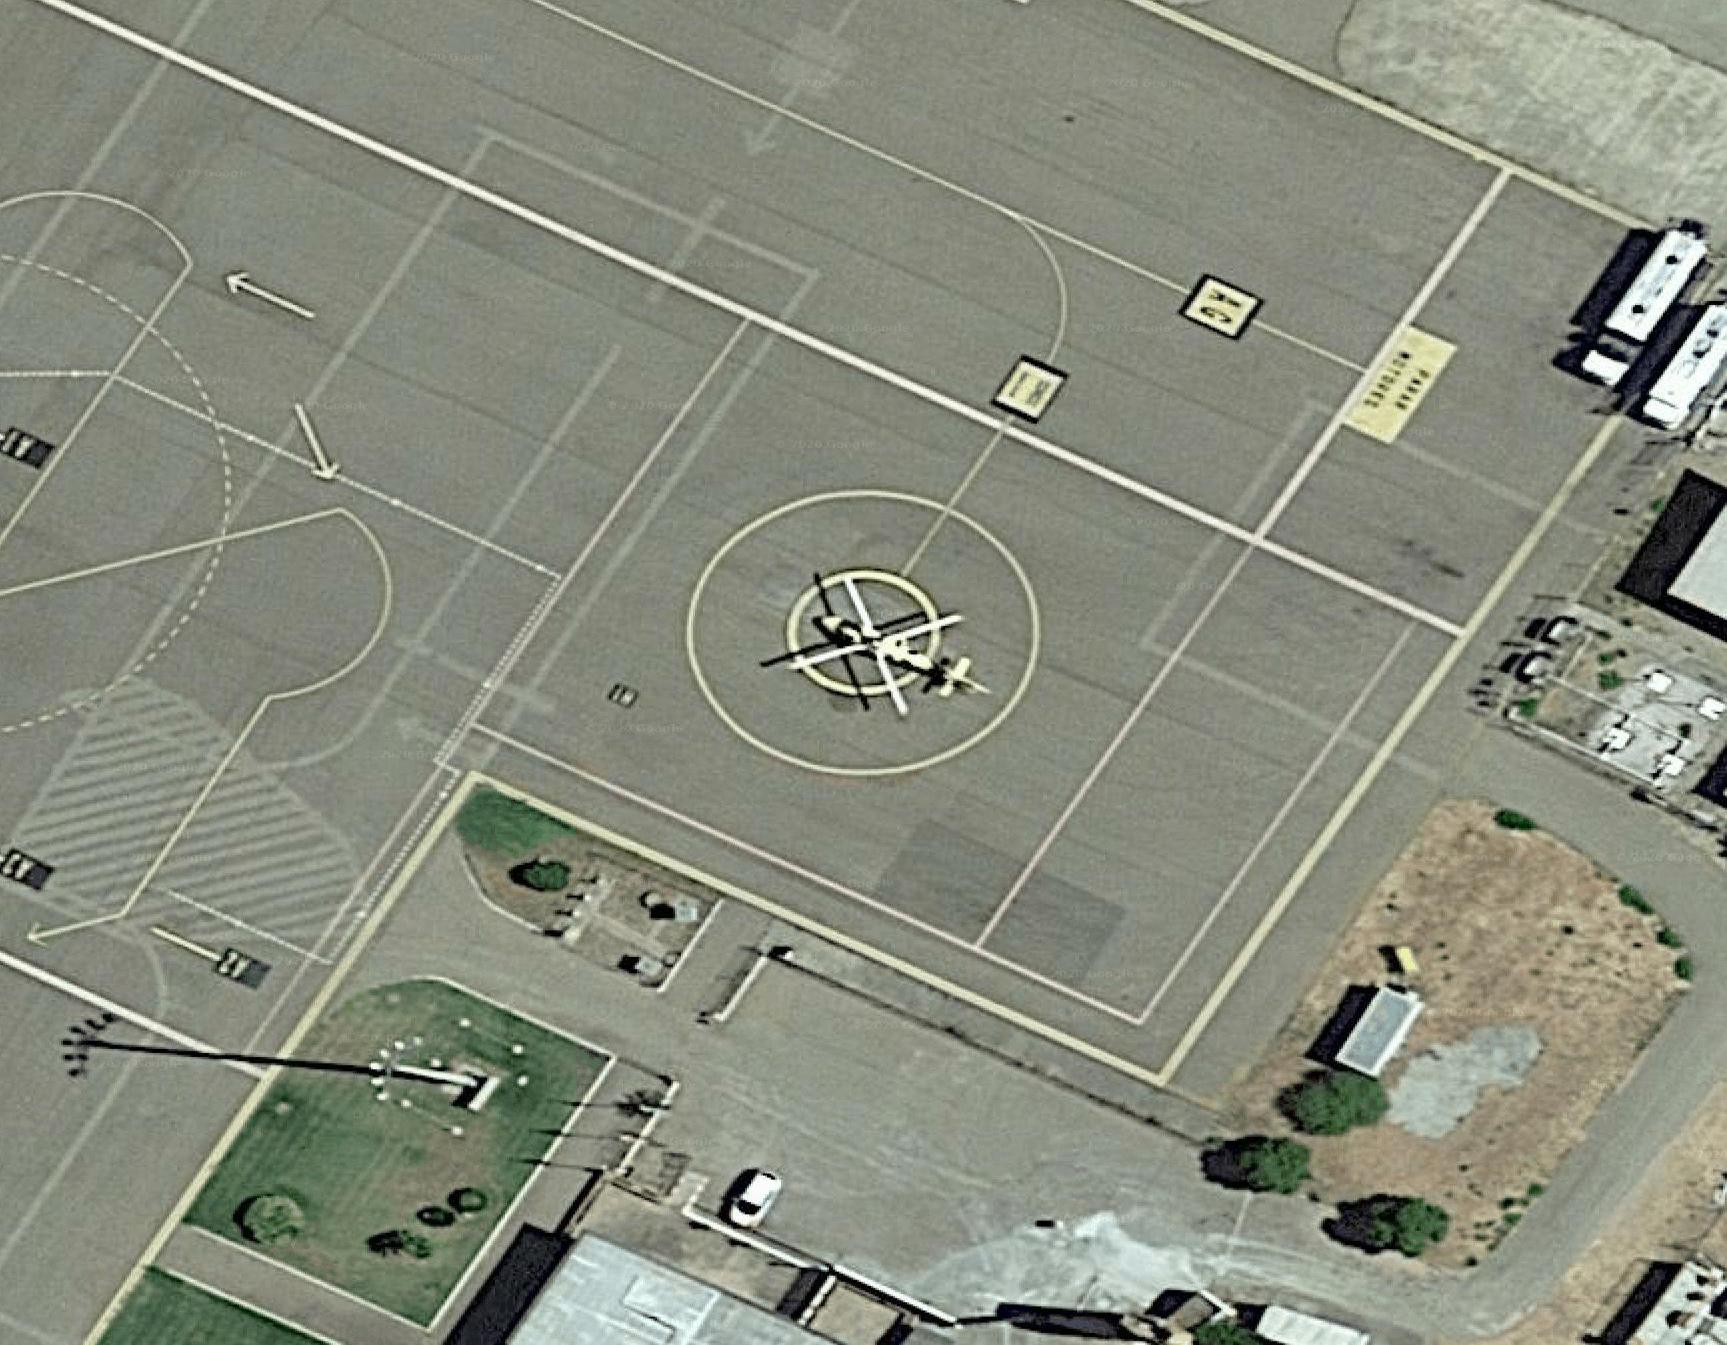helicopter: (785, 565, 984, 717)
helipad: (704, 488, 1018, 777)
large-vehicle: (1569, 219, 1712, 397), (1632, 281, 1727, 438)
small-vehicle: (725, 1163, 791, 1236)
